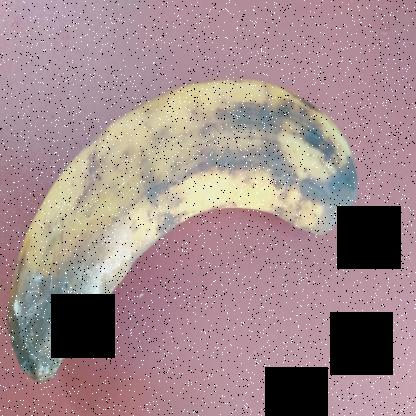rotten: (1, 60, 357, 401)
